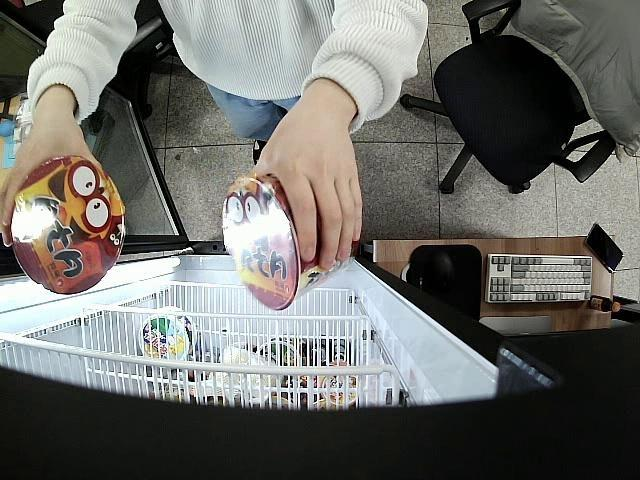05_nuguri_L: (224, 174, 356, 310), (10, 156, 124, 295)
